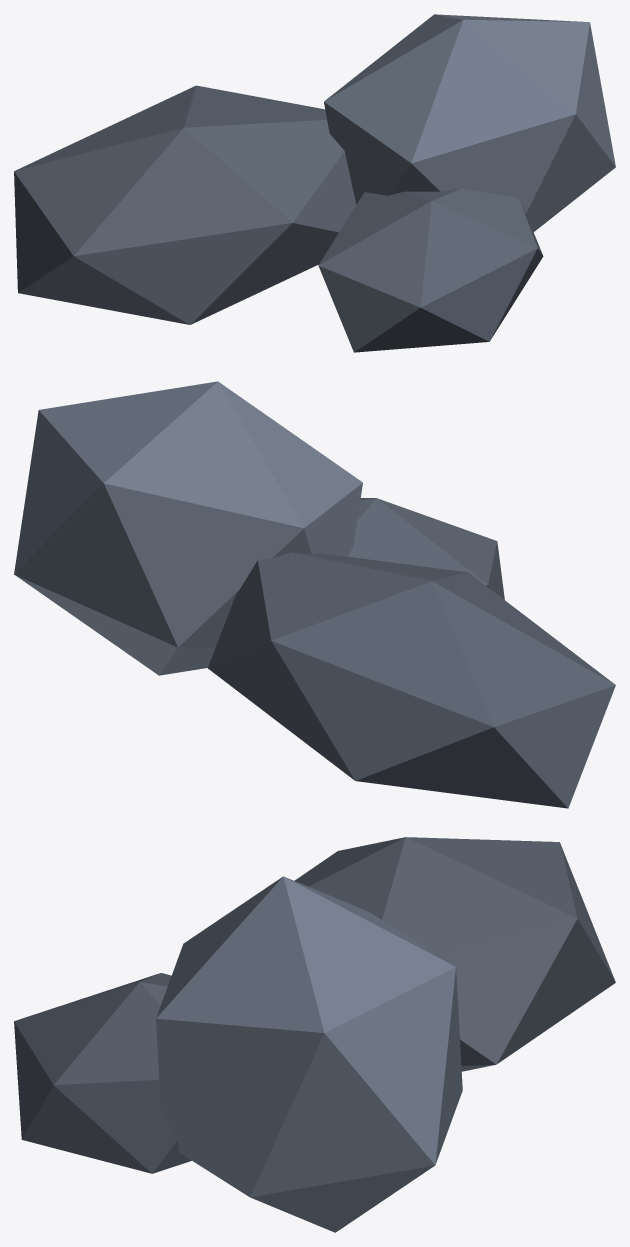
Rendered from EXTW_EastCluster_03.glb.
3 views of the same model, one above another, from view 1: azimuth 30°, elevation 25°; view 2: azimuth 150°, elevation 25°; view 3: azimuth 270°, elevation 25° (orthographic). The views are drawn at different scales.
Visible parts, largest first — view 1: EXTW_EastCluster_03; view 2: EXTW_EastCluster_03; view 3: EXTW_EastCluster_03.
Part boxes in pixels (x1,y1,x2,y2): EXTW_EastCluster_03: (14,14,615,352); EXTW_EastCluster_03: (14,381,615,808); EXTW_EastCluster_03: (14,837,615,1232).
Bounding box in the file's own units: 1.92 × 0.8945 × 1.45.
